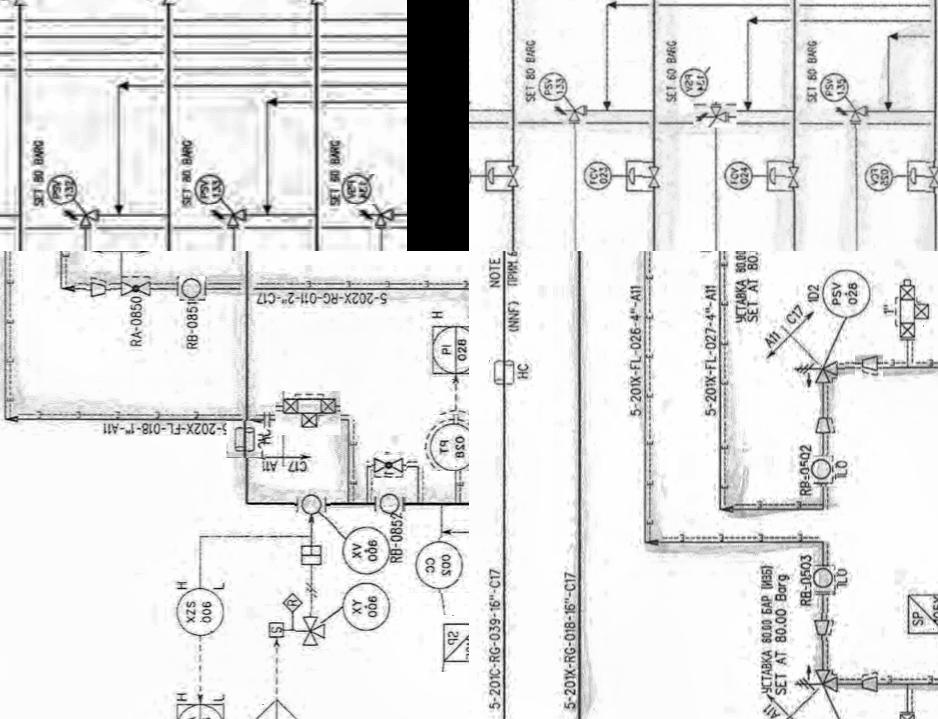2 WAY VALVE: (275, 390, 340, 434), (892, 282, 932, 342), (890, 707, 933, 719)
3 WAY GENERAL VALVE: (295, 610, 327, 654)
ANGLE RELIEF VALVE: (790, 352, 845, 386), (790, 662, 846, 694), (548, 101, 592, 129), (208, 202, 254, 228), (62, 200, 103, 229), (356, 202, 400, 228), (693, 100, 736, 126), (836, 102, 877, 128)
CONCENTRIC REDUCER: (86, 274, 110, 302), (812, 612, 836, 640), (856, 352, 884, 376), (812, 410, 838, 434), (860, 670, 884, 694)
DCS ACCESSIBLE: (423, 312, 469, 379), (165, 695, 221, 719)
DUPLEX RECEPTACLE: (226, 419, 264, 457), (489, 346, 518, 392)
END CAP: (481, 160, 499, 186), (624, 160, 640, 188), (905, 162, 922, 184), (764, 162, 778, 186)
FIELD INSTRUMENT: (408, 535, 469, 591), (171, 582, 228, 638), (340, 578, 394, 634), (821, 264, 874, 318), (338, 528, 400, 574), (423, 414, 469, 470), (191, 168, 230, 206), (724, 156, 758, 196), (578, 156, 614, 193), (861, 158, 896, 194), (44, 170, 78, 206), (678, 64, 710, 102), (816, 68, 852, 101), (342, 172, 378, 202), (536, 69, 570, 100), (810, 453, 838, 484), (294, 492, 330, 516), (371, 492, 404, 516), (810, 564, 838, 590), (179, 276, 204, 300)
GATE VALVE: (642, 158, 664, 189), (499, 160, 520, 192), (786, 158, 804, 189), (925, 159, 938, 192)
GLOBE VALVE: (371, 453, 407, 477), (116, 278, 153, 300)
HARDWIRED INTERLOCK FIELD: (279, 586, 307, 614)
HARDWIRED INTERLOCK PRIMARY.: (245, 693, 310, 719)
SPECIAL PIPING ITEM: (435, 614, 469, 671), (902, 586, 938, 637)
SPEED FLOW METER: (263, 616, 290, 646)
